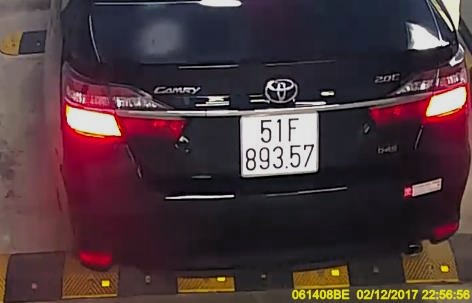plate: (236, 112, 322, 176)
